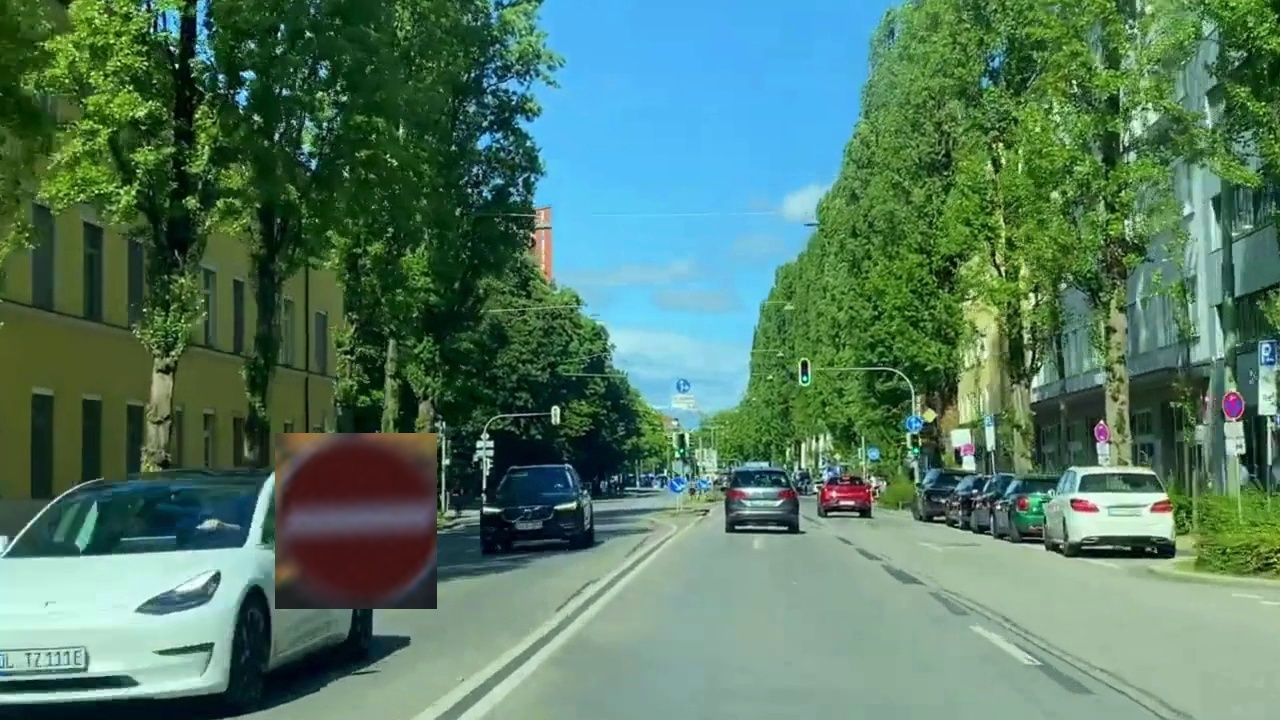No entry: (275, 433, 437, 609)
